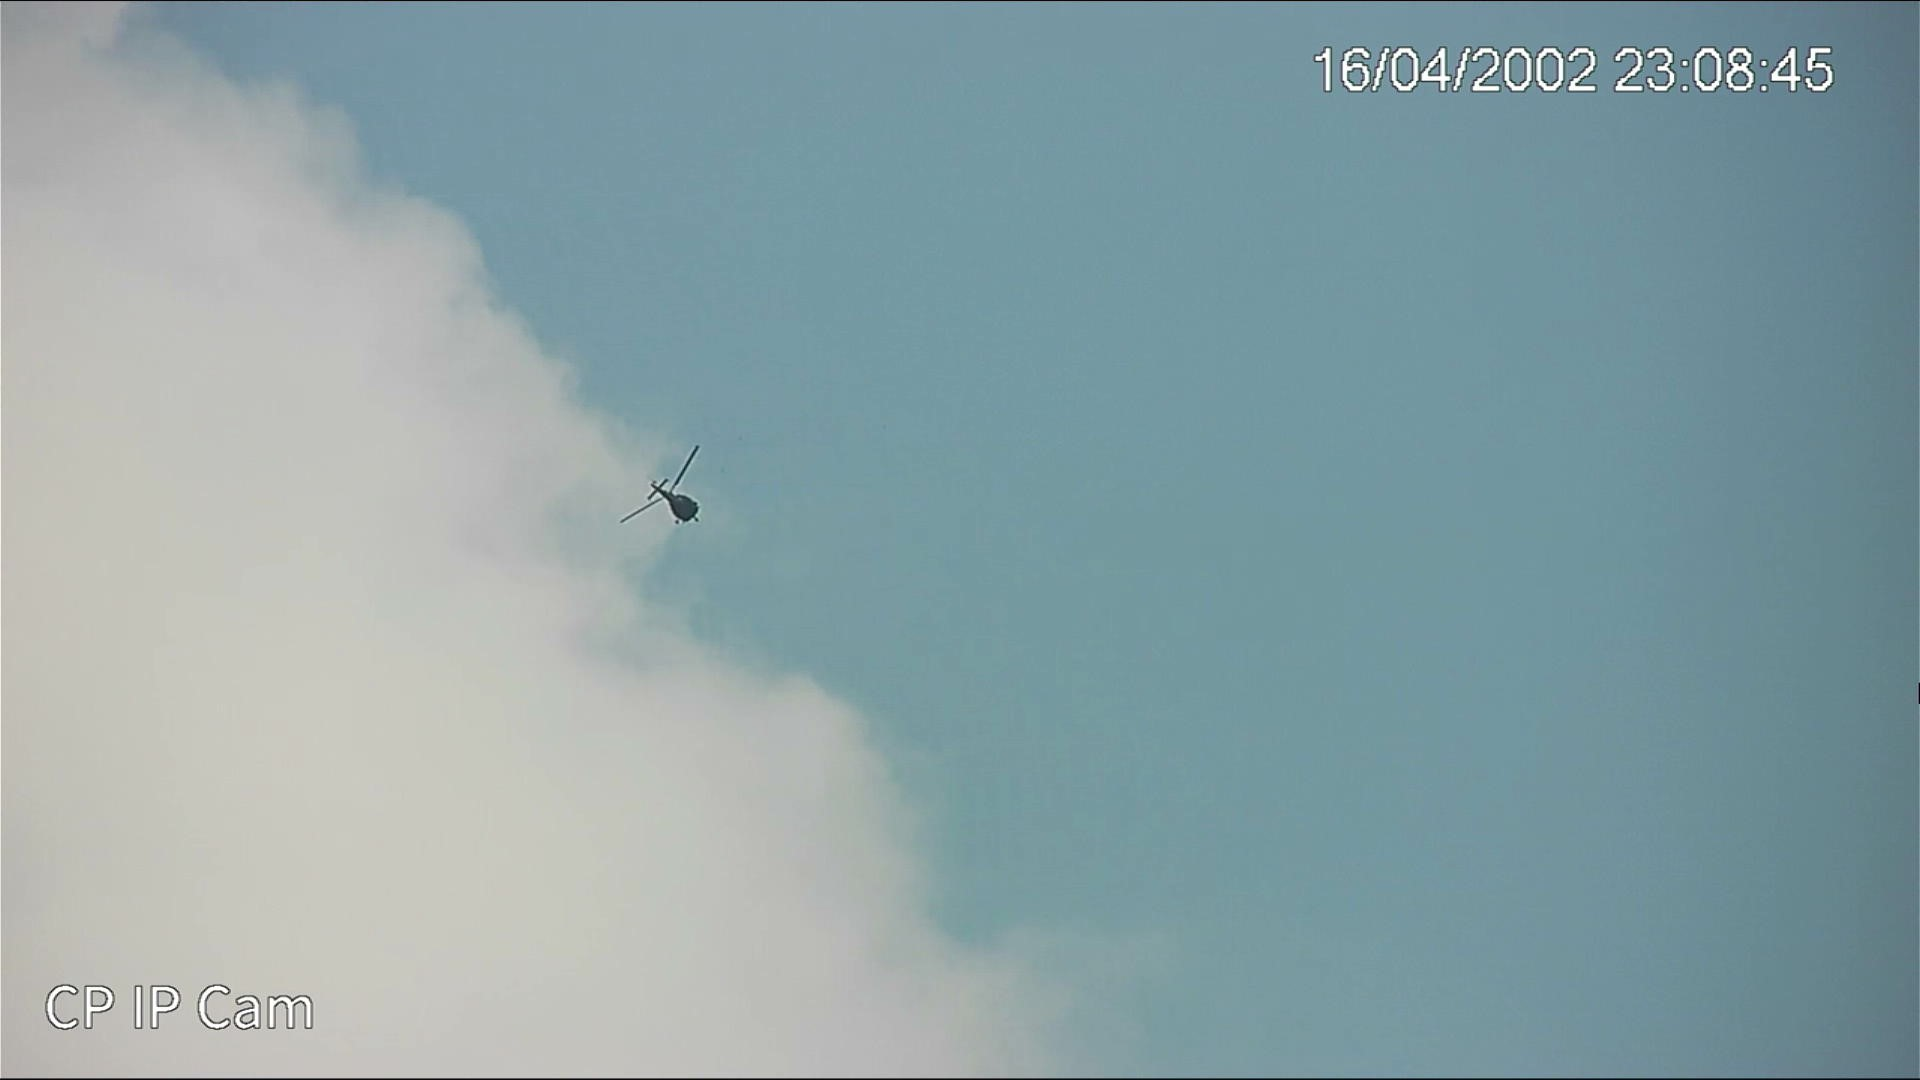SU_30: (616, 444, 712, 531)
